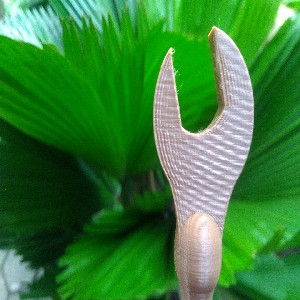spanner: (153, 26, 255, 300)
